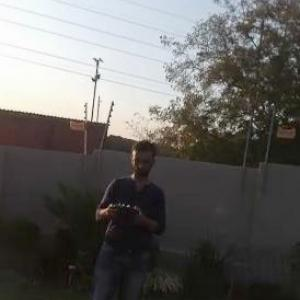follow: (88, 135, 175, 299)
